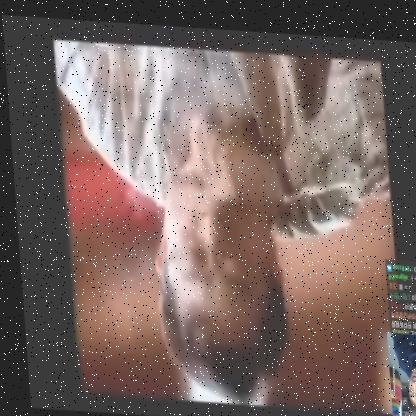streamer: (385, 327, 416, 416)
